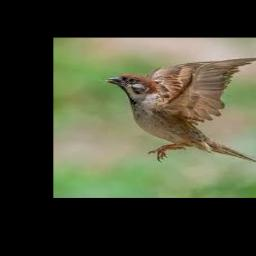Sparrow: (104, 58, 256, 165)
